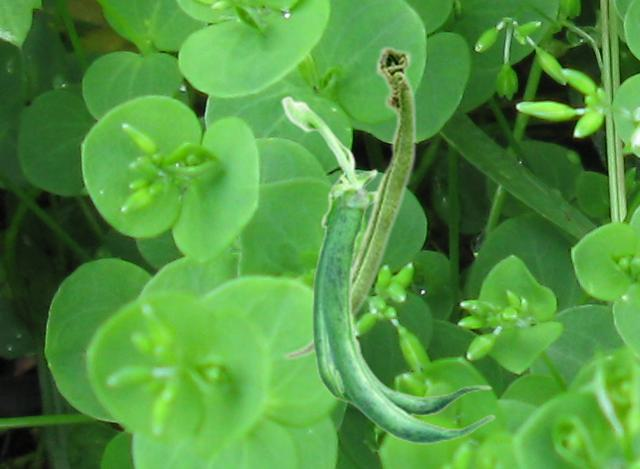french_bean: (280, 95, 494, 444), (281, 44, 416, 360)
